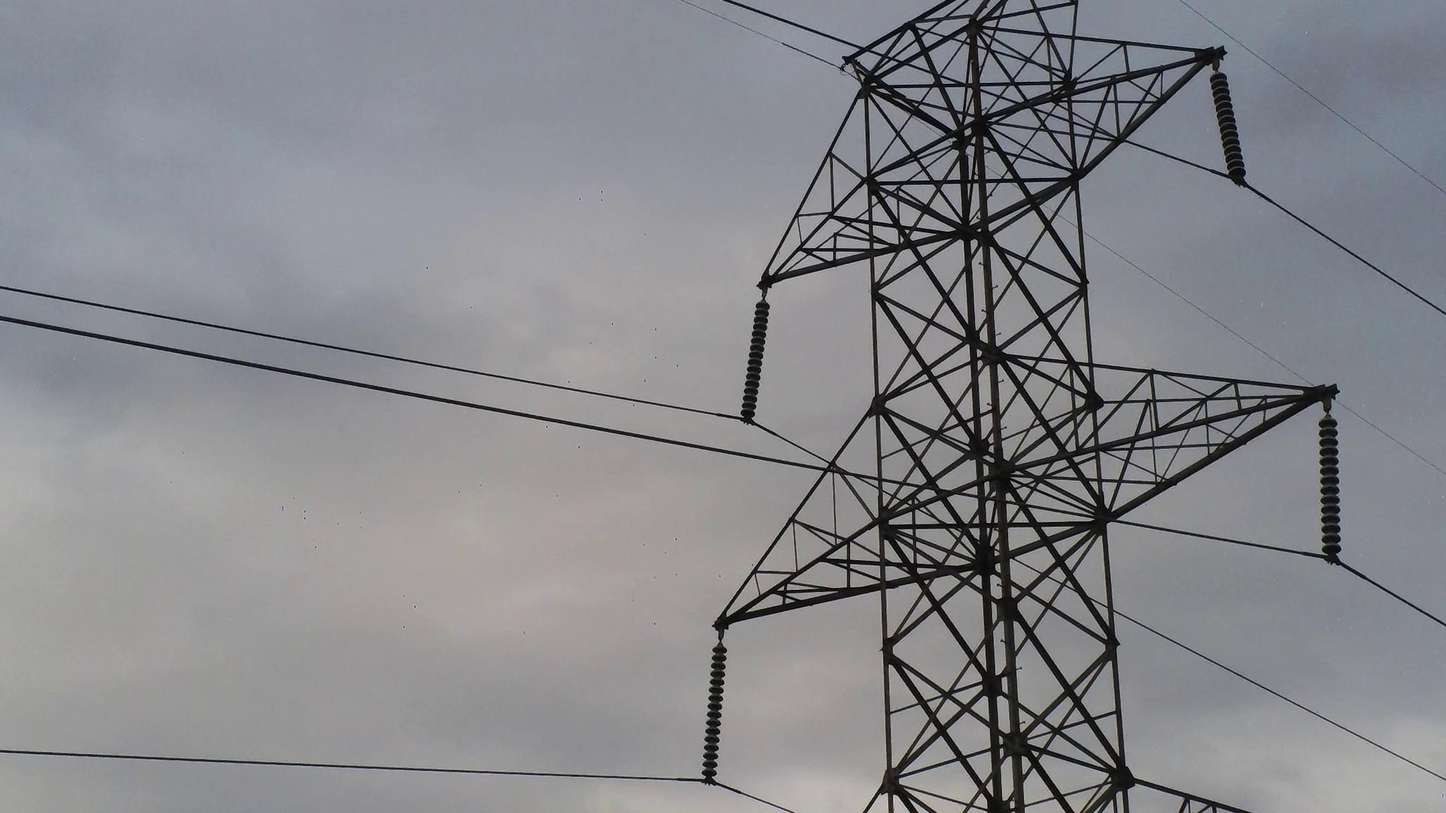tower: (695, 0, 1354, 813)
